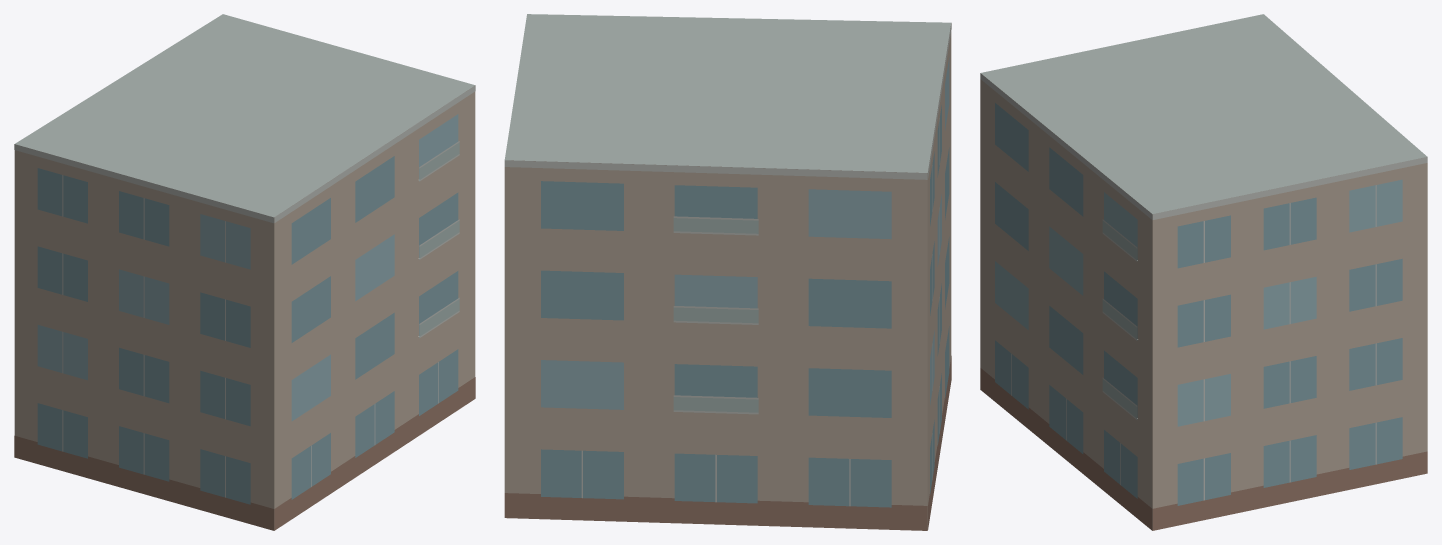
Rendered from survey-upis-32913475.glb.
The picture shows the model from 3 angles, left to right: view 1: azimuth 30°, elevation 25°; view 2: azimuth 150°, elevation 25°; view 3: azimuth 270°, elevation 25°; orthographic projection. The views are drawn at different scales.
Parts seen in each view (by area): view 1: survey-upis-32913475.tmp; view 2: survey-upis-32913475.tmp; view 3: survey-upis-32913475.tmp.
Part boxes in pixels (box(x1,y1,x2,y2)): survey-upis-32913475.tmp: box(14, 14, 475, 530); survey-upis-32913475.tmp: box(504, 14, 951, 530); survey-upis-32913475.tmp: box(980, 14, 1427, 530).
Bounding box in the file's own units: 17.36 × 12.8 × 16.39.
